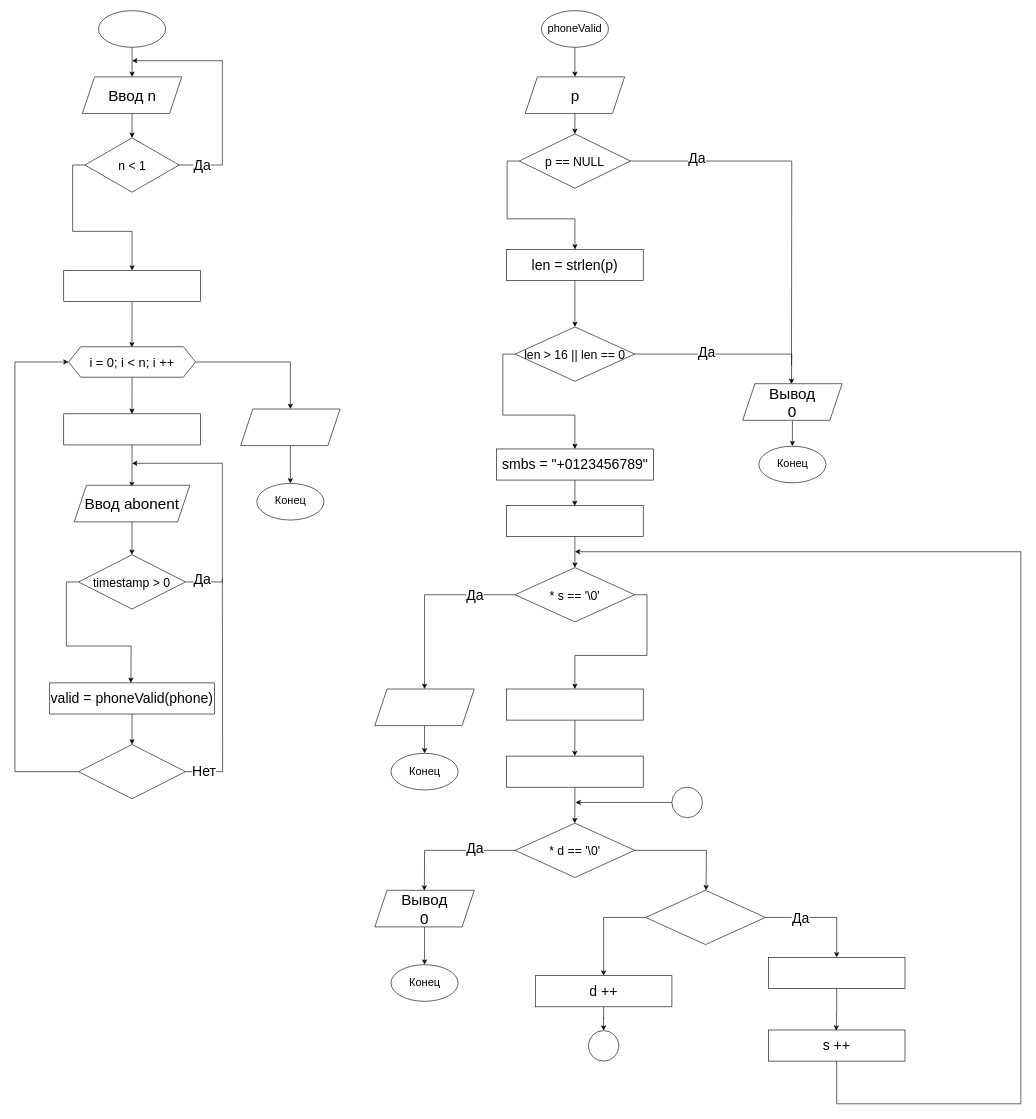
Some shapes in this 1036 by 1119 pixel diagram are drawn without their labels. Each missing label, with the box of its shape:
* d = smbs: (506, 755, 643, 787)
* d == * s: (645, 890, 765, 945)
* s = p: (506, 505, 643, 536)
abonent = arr[i]: (63, 413, 200, 445)
arr = malloc(n): (63, 270, 200, 302)
good = 0: (506, 688, 643, 720)
good = 1: (768, 957, 905, 989)
readArray: (98, 10, 166, 47)
valid: (78, 744, 186, 799)
Вывод 1: (374, 688, 474, 726)
Вывод arr, n: (240, 408, 340, 446)
